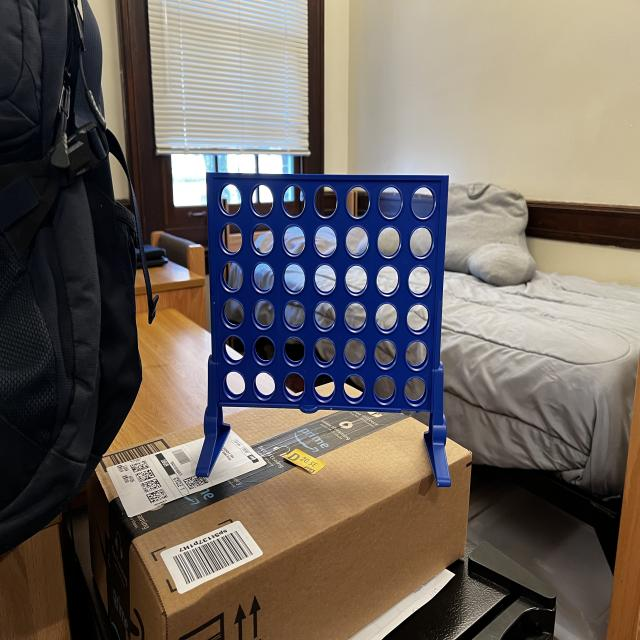Board: (206, 171, 446, 417)
